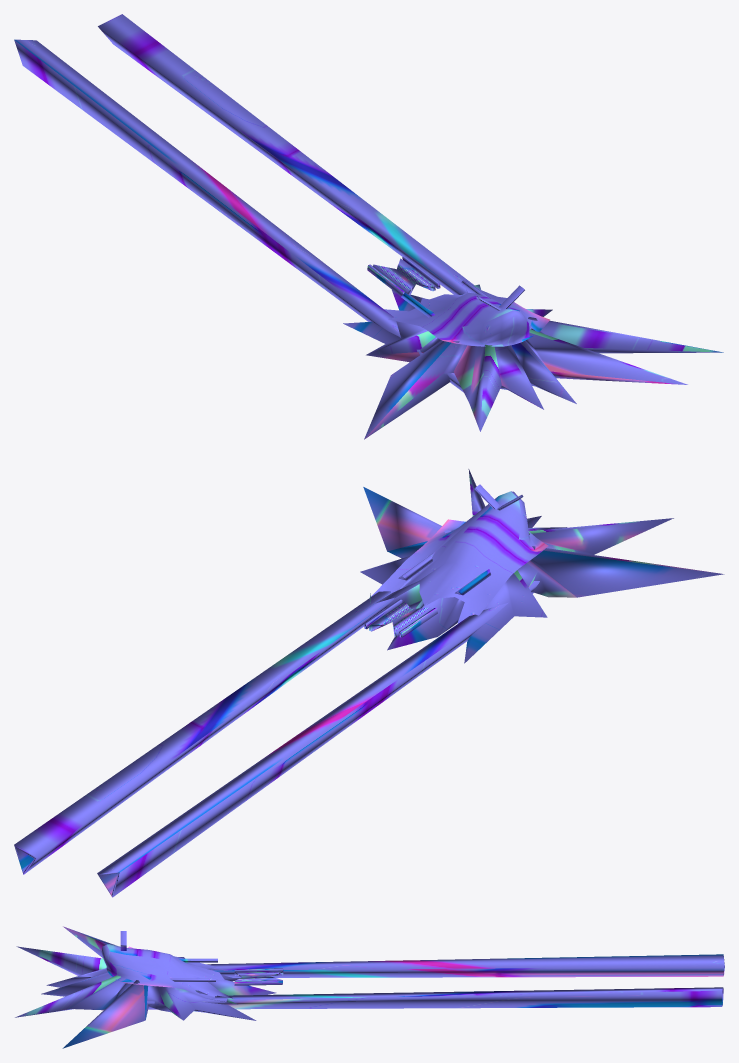
File: gunship bigger.obj
The picture shows the model from 3 angles, top to bottom: view 1: azimuth 30°, elevation 25°; view 2: azimuth 150°, elevation 25°; view 3: azimuth 270°, elevation 25°; orthographic projection. The views are drawn at different scales.
Parts seen in each view (by area): view 1: Ship_Body, Gun_2, Gun_1, Driving_Seat; view 2: Ship_Body, Gun_2, Gun_1, Driving_Seat; view 3: Gun_2, Gun_1, Ship_Body, Driving_Seat, Gun_Stripes_2, Gun_Stripe_4.
Boxes of the visible parts, <box> form: Ship_Body: <box>343,290,723,439</box>; Gun_2: <box>14,39,463,392</box>; Gun_1: <box>98,14,486,294</box>; Driving_Seat: <box>384,284,549,346</box>; Ship_Body: <box>360,469,724,663</box>; Gun_2: <box>97,581,539,897</box>; Gun_1: <box>14,591,394,874</box>; Driving_Seat: <box>369,491,548,623</box>; Gun_2: <box>207,954,724,977</box>; Gun_1: <box>91,987,723,1009</box>; Ship_Body: <box>15,926,276,1048</box>; Driving_Seat: <box>101,944,237,1004</box>; Gun_Stripes_2: <box>234,970,283,976</box>; Gun_Stripe_4: <box>234,980,282,985</box>.
Bounding box in the file's own units: 15.69 × 3.68 × 38.52.
1 material, 1 textured.
